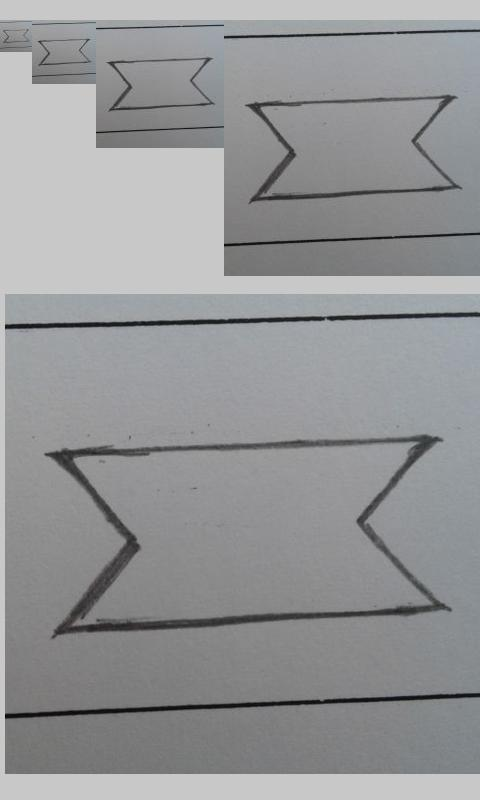edit_text: (53, 433, 448, 635), (247, 95, 460, 200), (106, 57, 213, 112), (38, 38, 91, 65), (3, 29, 29, 43)
